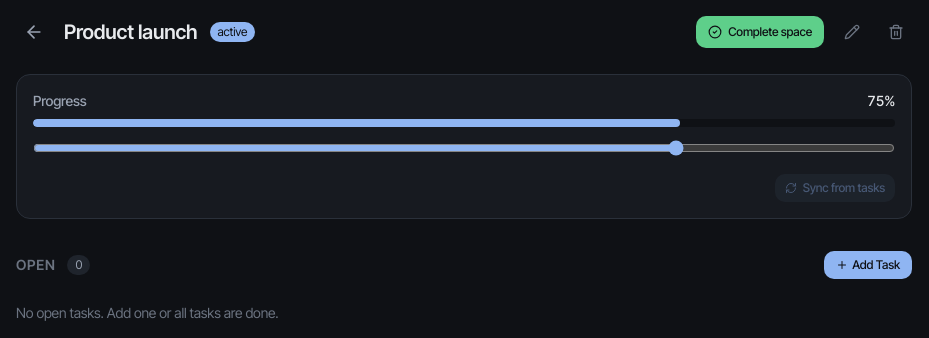
Test case: SpaceDashboard lifecycle › completes an active space without changing its progress
Click the button "Complete space" at point(760, 32), box [696, 16, 824, 48]
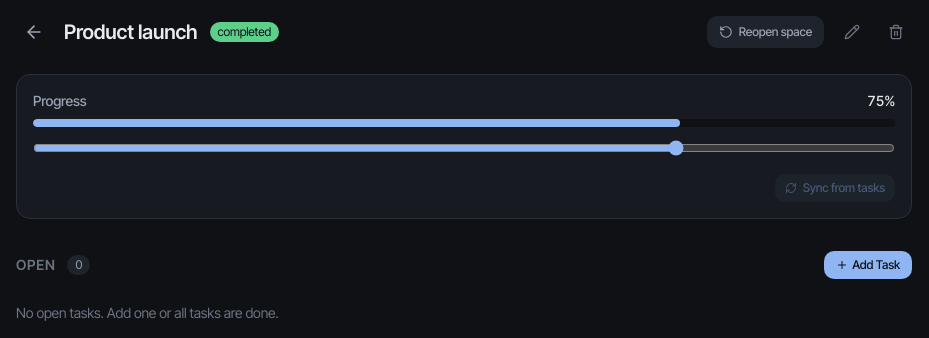
Expected: the text "75%" is shown, [867, 91, 895, 111]
Expected: the button "Reopen space" is shown, [707, 16, 824, 48]
